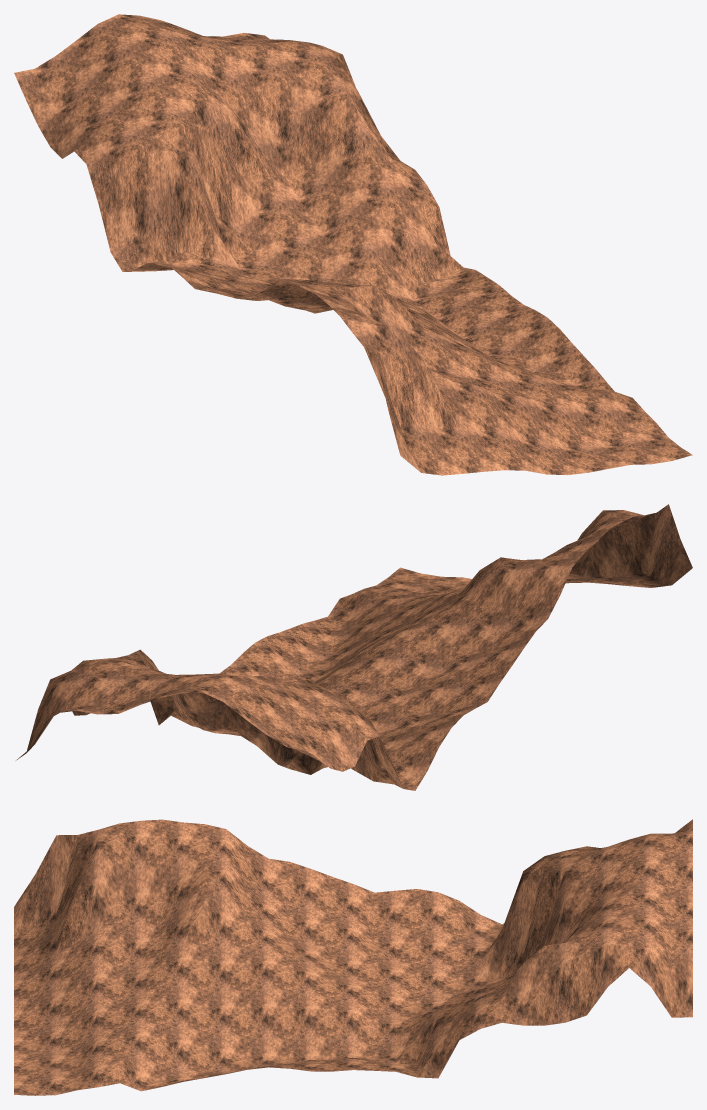
Rendered from terrain_02_23.dae.
3 renders of one model, top to bottom at view 1: azimuth 30°, elevation 25°; view 2: azimuth 150°, elevation 25°; view 3: azimuth 270°, elevation 25°, orthographic. The views are drawn at different scales.
Parts seen in each view (by area): view 1: terrain_02_23-node; view 2: terrain_02_23-node; view 3: terrain_02_23-node.
Boxes of the visible parts, x1,y1,x2,y2 form: terrain_02_23-node: (14,14,692,475); terrain_02_23-node: (16,504,692,790); terrain_02_23-node: (14,819,692,1095).
Bounding box in the file's own units: 56 × 128 × 37.48.
Materials: 1 (1 with a texture image).
